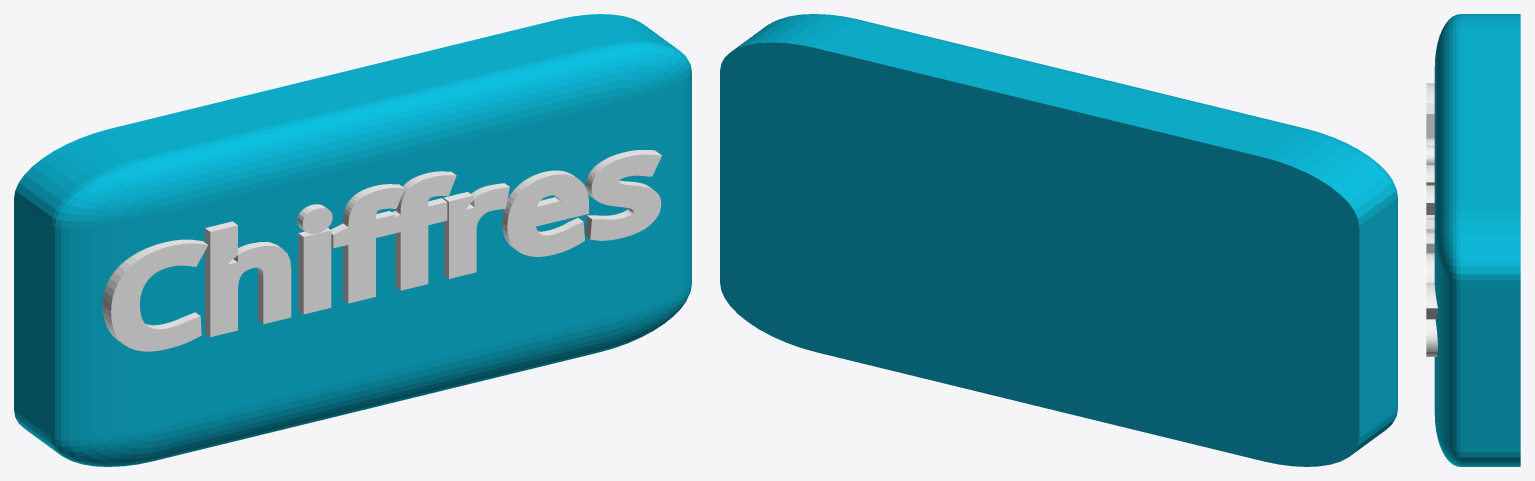
The model's file is tinker.obj.
The picture shows the model from 3 angles, left to right: view 1: azimuth 30°, elevation 25°; view 2: azimuth 150°, elevation 25°; view 3: azimuth 270°, elevation 25°; orthographic projection. The views are drawn at different scales.
Parts seen in each view (by area): view 1: group_0_48093, group_0_16448250; view 2: group_0_48093; view 3: group_0_48093, group_0_16448250.
Boxes of the visible parts, left/top/right/bottom form: group_0_48093: left=14, top=14, right=691, bottom=466; group_0_16448250: left=102, top=150, right=661, bottom=351; group_0_48093: left=720, top=14, right=1397, bottom=466; group_0_48093: left=1434, top=14, right=1520, bottom=466; group_0_16448250: left=1426, top=83, right=1437, bottom=356.
Size of the model in its own units: 44 by 20 by 7.
